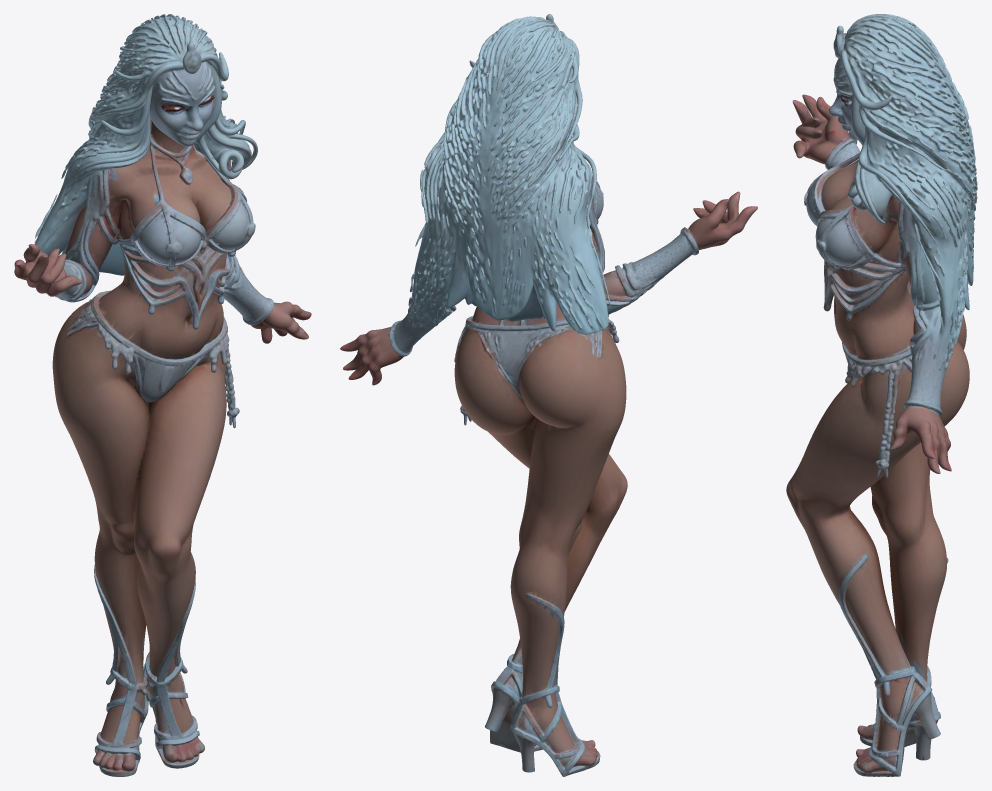
The model's file is ysolde.glb.
3 renders of one model, left to right at view 1: azimuth 30°, elevation 25°; view 2: azimuth 150°, elevation 25°; view 3: azimuth 270°, elevation 25°, orthographic. The views are drawn at different scales.
Visible parts, largest first — view 1: Object_2; view 2: Object_2; view 3: Object_2.
Boxes of the visible parts, x1=… form: Object_2: x1=14, y1=14, x2=311, y2=776; Object_2: x1=340, y1=14, x2=757, y2=776; Object_2: x1=786, y1=14, x2=977, y2=776.
Size of the model in its own units: 0.6019 by 1.19 by 0.2736.
1 material, 1 textured.
